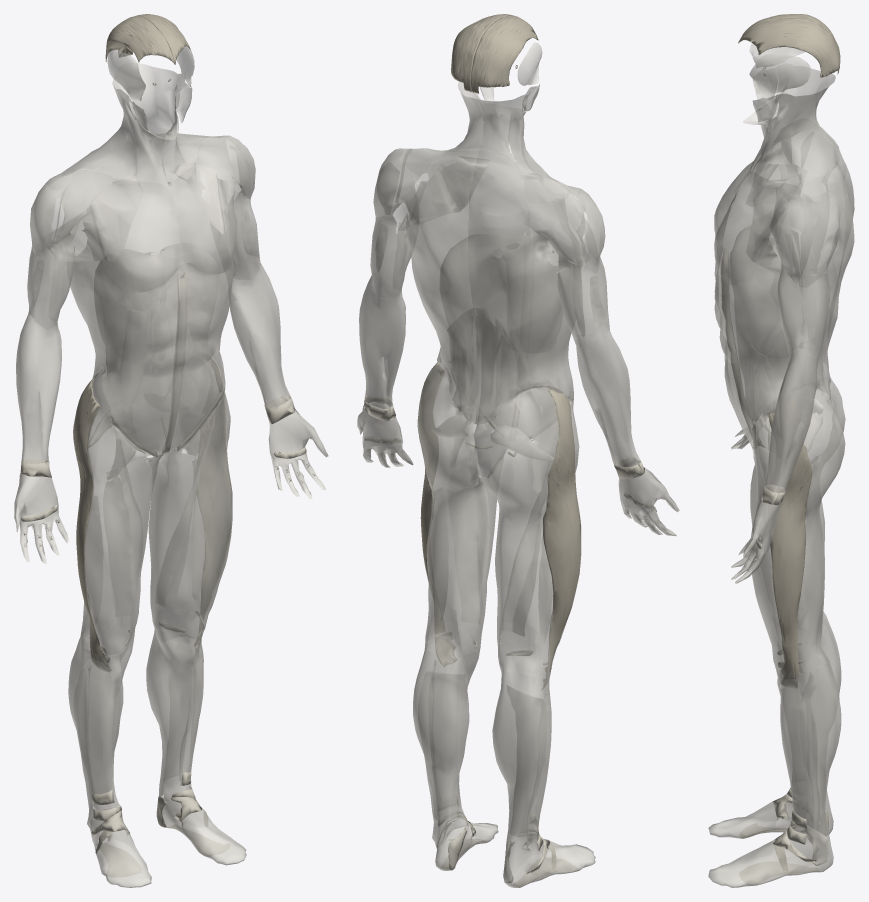
The model's file is adult_male.fascia.LOD2.glb.
3 views of the same model, side by side, from view 1: azimuth 30°, elevation 25°; view 2: azimuth 150°, elevation 25°; view 3: azimuth 270°, elevation 25° (orthographic). The views are drawn at different scales.
Parts seen in each view (by area): view 1: ADULT.MALE.FASCIA.INVESTING_ABDOMINAL_FASCIA.R, ADULT.MALE.FASCIA.FASCIA_LATA.L, ADULT.MALE.FASCIA.INVESTING_ABDOMINAL_FASCIA.L, ADULT.MALE.FASCIA.FASCIA_LATA.R, ADULT.MALE.FASCIA.TRANSVERSALIS_FASCIA, ADULT.MALE.FASCIA.CRURAL_FASCIA.L, ADULT.MALE.FASCIA.CRURAL_FASCIA.R, ADULT.MALE.FASCIA.PECTORAL_FASCIA.R, ADULT.MALE.FASCIA.DIAPHRAGMATIC_FASCIA, ADULT.MALE.FASCIA.PECTORAL_FASCIA.L, ADULT.MALE.FASCIA.ILIOTIBIAL_TRACT.L, ADULT.MALE.FASCIA.ANTEBRACHIAL_FASCIA.R (+29 smaller); view 2: ADULT.MALE.FASCIA.INVESTING_ABDOMINAL_FASCIA.R, ADULT.MALE.FASCIA.FASCIA_LATA.R, ADULT.MALE.FASCIA.FASCIA_LATA.L, ADULT.MALE.FASCIA.CRURAL_FASCIA.R, ADULT.MALE.FASCIA.INVESTING_ABDOMINAL_FASCIA.L, ADULT.MALE.FASCIA.DIAPHRAGMATIC_FASCIA, ADULT.MALE.FASCIA.CRURAL_FASCIA.L, ADULT.MALE.FASCIA.SUPERFICIAL_INVESTING_CERVICAL_FASCIA.R, ADULT.MALE.FASCIA.ILIOTIBIAL_TRACT.R, ADULT.MALE.FASCIA.SUPERFICIAL_INVESTING_CERVICAL_FASCIA.L, ADULT.MALE.FASCIA.MEDIAL_FEMORAL_INTERMUSCULAR_SEPTUM.L, ADULT.MALE.FASCIA.ANTEBRACHIAL_FASCIA.R (+32 smaller); view 3: ADULT.MALE.FASCIA.CRURAL_FASCIA.L, ADULT.MALE.FASCIA.INVESTING_ABDOMINAL_FASCIA.L, ADULT.MALE.FASCIA.FASCIA_LATA.L, ADULT.MALE.FASCIA.ILIOTIBIAL_TRACT.L, ADULT.MALE.FASCIA.SUPERFICIAL_INVESTING_CERVICAL_FASCIA.L, ADULT.MALE.FASCIA.INVESTING_ABDOMINAL_FASCIA.R, ADULT.MALE.FASCIA.DELTOID_FASCIA.L, ADULT.MALE.FASCIA.PECTORAL_FASCIA.L, ADULT.MALE.FASCIA.ANTEBRACHIAL_FASCIA.L, ADULT.MALE.FASCIA.DIAPHRAGMATIC_FASCIA, ADULT.MALE.FASCIA.SUPERFICIAL_INVESTING_CERVICAL_FASCIA.R, ADULT.MALE.FASCIA.BRACHIAL_FASCIA.L (+25 smaller).
Boxes of the visible parts, x1,y1,x2,y2 form: ADULT.MALE.FASCIA.INVESTING_ABDOMINAL_FASCIA.R: [57, 165, 184, 456]; ADULT.MALE.FASCIA.FASCIA_LATA.L: [140, 377, 232, 637]; ADULT.MALE.FASCIA.INVESTING_ABDOMINAL_FASCIA.L: [123, 143, 232, 451]; ADULT.MALE.FASCIA.FASCIA_LATA.R: [73, 369, 165, 657]; ADULT.MALE.FASCIA.TRANSVERSALIS_FASCIA: [102, 275, 218, 451]; ADULT.MALE.FASCIA.CRURAL_FASCIA.L: [146, 609, 246, 865]; ADULT.MALE.FASCIA.CRURAL_FASCIA.R: [68, 628, 151, 887]; ADULT.MALE.FASCIA.PECTORAL_FASCIA.R: [78, 178, 182, 293]; ADULT.MALE.FASCIA.DIAPHRAGMATIC_FASCIA: [94, 243, 218, 352]; ADULT.MALE.FASCIA.PECTORAL_FASCIA.L: [168, 158, 237, 274]; ADULT.MALE.FASCIA.ILIOTIBIAL_TRACT.L: [193, 357, 231, 650]; ADULT.MALE.FASCIA.ANTEBRACHIAL_FASCIA.R: [16, 315, 61, 463]; ADULT.MALE.FASCIA.INVESTING_ABDOMINAL_FASCIA.R: [467, 206, 574, 425]; ADULT.MALE.FASCIA.FASCIA_LATA.R: [474, 388, 581, 676]; ADULT.MALE.FASCIA.FASCIA_LATA.L: [417, 363, 506, 655]; ADULT.MALE.FASCIA.CRURAL_FASCIA.R: [492, 656, 595, 887]; ADULT.MALE.FASCIA.INVESTING_ABDOMINAL_FASCIA.L: [402, 177, 530, 424]; ADULT.MALE.FASCIA.DIAPHRAGMATIC_FASCIA: [440, 234, 564, 353]; ADULT.MALE.FASCIA.CRURAL_FASCIA.L: [413, 640, 498, 870]; ADULT.MALE.FASCIA.SUPERFICIAL_INVESTING_CERVICAL_FASCIA.R: [469, 86, 570, 216]; ADULT.MALE.FASCIA.ILIOTIBIAL_TRACT.R: [541, 389, 580, 690]; ADULT.MALE.FASCIA.SUPERFICIAL_INVESTING_CERVICAL_FASCIA.L: [399, 81, 518, 207]; ADULT.MALE.FASCIA.MEDIAL_FEMORAL_INTERMUSCULAR_SEPTUM.L: [448, 423, 489, 624]; ADULT.MALE.FASCIA.ANTEBRACHIAL_FASCIA.R: [575, 329, 641, 467]; ADULT.MALE.FASCIA.CRURAL_FASCIA.L: [708, 644, 841, 887]; ADULT.MALE.FASCIA.INVESTING_ABDOMINAL_FASCIA.L: [714, 187, 854, 447]; ADULT.MALE.FASCIA.FASCIA_LATA.L: [751, 388, 845, 672]; ADULT.MALE.FASCIA.ILIOTIBIAL_TRACT.L: [768, 395, 812, 688]; ADULT.MALE.FASCIA.SUPERFICIAL_INVESTING_CERVICAL_FASCIA.L: [743, 78, 847, 204]; ADULT.MALE.FASCIA.INVESTING_ABDOMINAL_FASCIA.R: [714, 160, 854, 438]; ADULT.MALE.FASCIA.DELTOID_FASCIA.L: [770, 182, 842, 287]; ADULT.MALE.FASCIA.PECTORAL_FASCIA.L: [714, 169, 776, 284]; ADULT.MALE.FASCIA.ANTEBRACHIAL_FASCIA.L: [764, 347, 819, 492]; ADULT.MALE.FASCIA.DIAPHRAGMATIC_FASCIA: [731, 225, 815, 358]; ADULT.MALE.FASCIA.SUPERFICIAL_INVESTING_CERVICAL_FASCIA.R: [743, 63, 847, 179]; ADULT.MALE.FASCIA.BRACHIAL_FASCIA.L: [777, 248, 832, 356].
Size of the model in its own units: 0.6716 by 1.7 by 0.2689.
